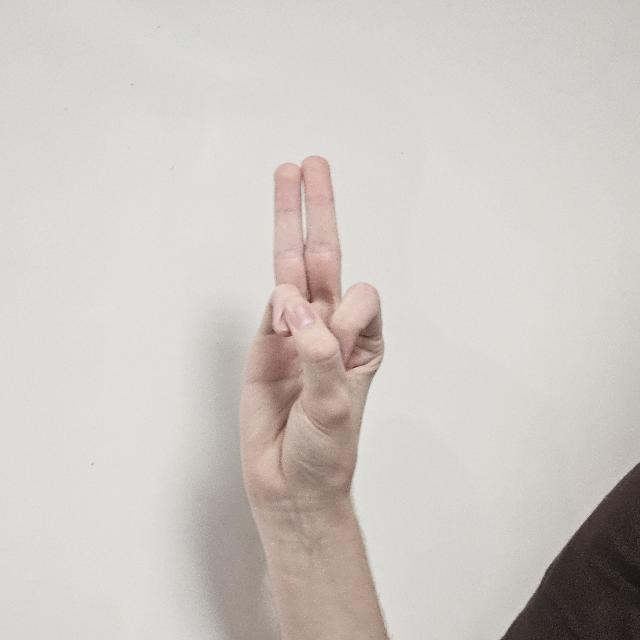R: (239, 155, 385, 531)
